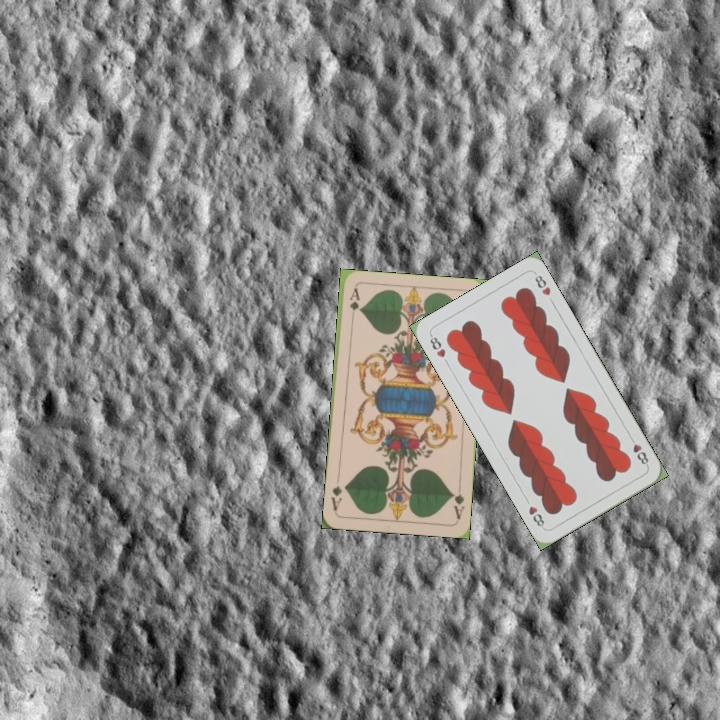GA: (448, 481, 467, 522), (346, 285, 361, 325)
H8: (625, 432, 651, 469), (426, 331, 448, 360)
